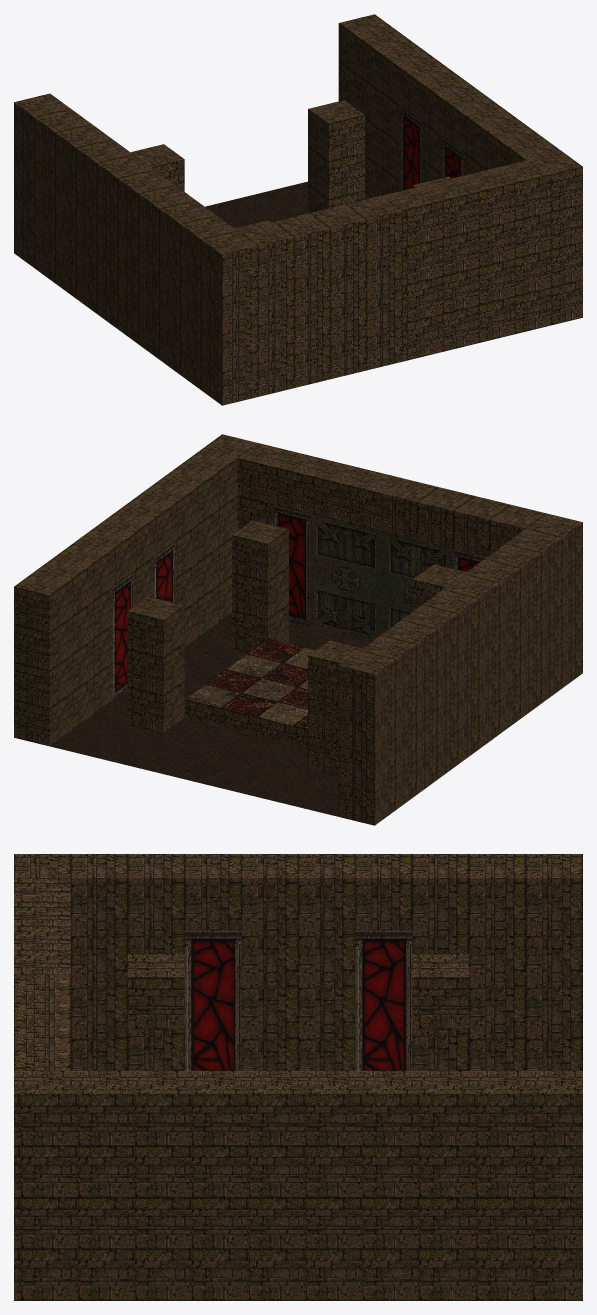
File: map2.gltf
The picture shows the model from 3 angles, top to bottom: view 1: azimuth 30°, elevation 25°; view 2: azimuth 150°, elevation 25°; view 3: azimuth 270°, elevation 25°; orthographic projection. The views are drawn at different scales.
Visible parts, largest first — view 1: plane; view 2: plane; view 3: plane.
Part boxes in pixels (x1,y1,x2,y2): plane: (14, 14, 582, 405); plane: (14, 434, 582, 825); plane: (14, 854, 582, 1300).
Size of the model in its own units: 10 by 4 by 10.
5 materials, 5 textured.
